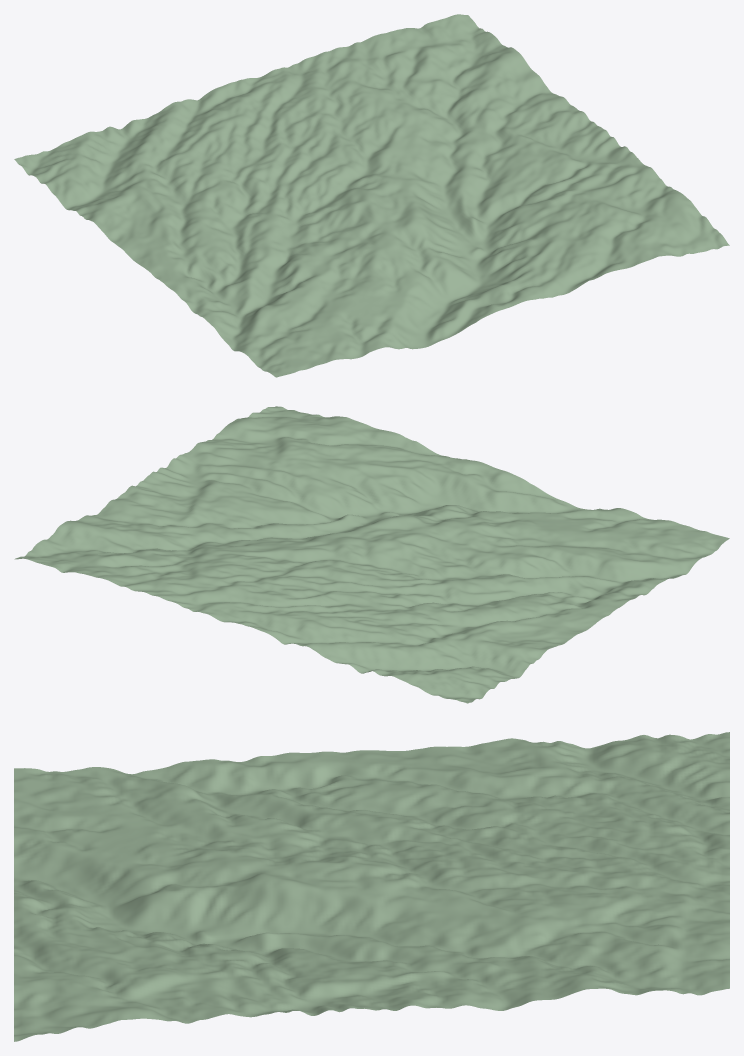
File: regional.glb
3 renders of one model, top to bottom at view 1: azimuth 30°, elevation 25°; view 2: azimuth 150°, elevation 25°; view 3: azimuth 270°, elevation 25°, orthographic. The views are drawn at different scales.
Parts seen in each view (by area): view 1: A_regional_current; view 2: A_regional_current; view 3: A_regional_current.
Boxes of the visible parts, box(x1,y1,x2,y2) form: A_regional_current: box(14, 14, 729, 377); A_regional_current: box(14, 406, 729, 703); A_regional_current: box(14, 732, 729, 1041).
Bounding box in the file's own units: 4000 × 587 × 4000.
